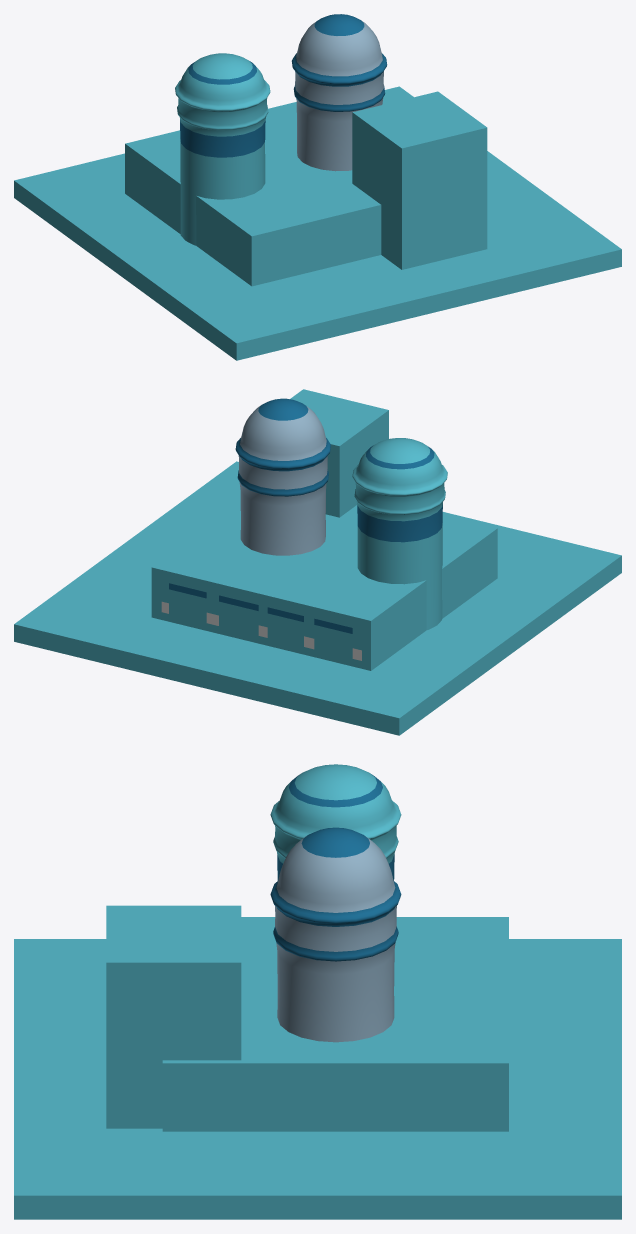
The model's file is factory_building-16.gltf.
3 views of the same model, one above another, from view 1: azimuth 30°, elevation 25°; view 2: azimuth 150°, elevation 25°; view 3: azimuth 270°, elevation 25° (orthographic). The views are drawn at different scales.
Visible parts, largest first — view 1: pCube22, pCube8, pCube46, pSphere8, pSphere5; view 2: pCube22, pCube8, pSphere8, pSphere5, pCube46; view 3: pCube22, pCube8, pCube46, pSphere5, pSphere8.
Part boxes in pixels (x1=…): pCube22: x1=14, y1=86, x2=621, y2=360; pCube8: x1=125, y1=102, x2=381, y2=286; pCube46: x1=352, y1=91, x2=487, y2=269; pSphere8: x1=175, y1=53, x2=270, y2=245; pSphere5: x1=291, y1=14, x2=387, y2=171; pCube22: x1=14, y1=461, x2=621, y2=735; pCube8: x1=151, y1=502, x2=497, y2=670; pSphere8: x1=352, y1=438, x2=447, y2=629; pSphere5: x1=235, y1=398, x2=330, y2=555; pCube46: x1=290, y1=389, x2=388, y2=517; pCube22: x1=14, y1=939, x2=621, y2=1219; pCube8: x1=162, y1=917, x2=508, y2=1131; pCube46: x1=106, y1=905, x2=241, y2=1128; pSphere5: x1=270, y1=827, x2=401, y2=1042; pSphere8: x1=270, y1=764, x2=401, y2=880.
Size of the model in its own units: 1.47 by 0.8642 by 1.47.
